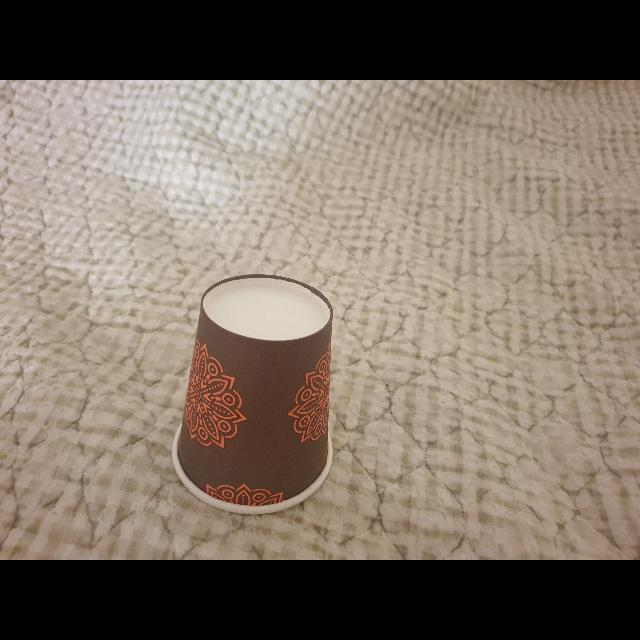trash: (170, 270, 340, 518)
